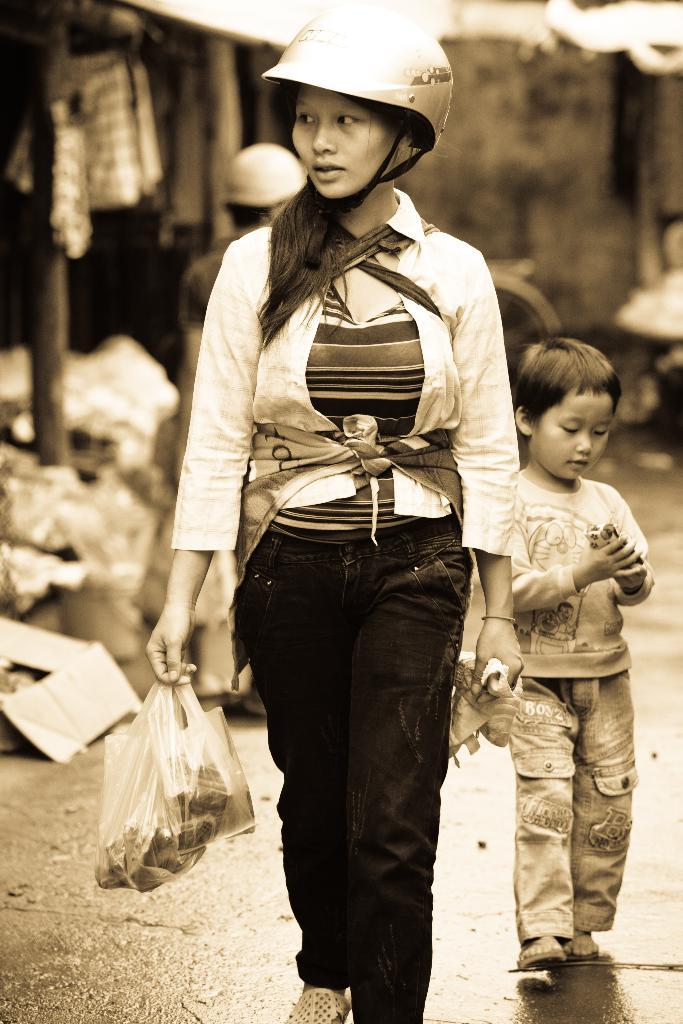helmet: (261, 7, 454, 199), (219, 143, 308, 237)
nohelmet: (514, 337, 622, 485)
